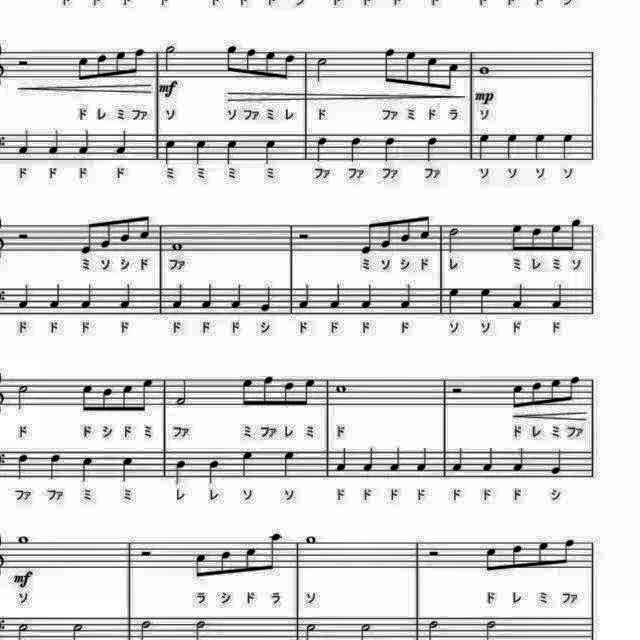Eighth-note: (266, 528, 286, 574), (377, 46, 395, 90), (356, 218, 376, 256), (404, 46, 421, 90), (423, 52, 441, 92), (566, 217, 584, 255), (77, 218, 95, 255), (79, 380, 97, 416), (235, 372, 253, 408), (192, 550, 212, 582), (138, 375, 154, 415), (533, 538, 551, 572), (241, 543, 259, 577), (559, 534, 577, 568), (509, 540, 527, 574), (444, 59, 462, 93), (214, 546, 233, 578), (261, 372, 277, 410), (263, 48, 279, 84), (483, 544, 501, 576), (280, 52, 298, 84), (118, 381, 134, 415), (379, 217, 395, 251), (99, 217, 115, 251), (222, 43, 238, 77), (116, 212, 132, 245), (95, 50, 111, 82), (242, 46, 258, 78), (566, 372, 582, 404), (396, 214, 412, 246), (548, 222, 564, 254), (302, 376, 318, 408), (418, 212, 434, 244), (136, 212, 152, 244), (548, 374, 564, 406), (506, 220, 522, 252), (74, 53, 90, 85), (132, 46, 148, 78), (99, 382, 115, 413), (112, 49, 128, 80), (508, 378, 524, 409), (528, 378, 544, 408), (528, 224, 544, 254), (280, 379, 296, 409)
Full-note: (15, 532, 33, 546), (170, 240, 187, 254), (478, 64, 494, 78), (334, 381, 350, 395), (304, 532, 320, 546)
Half-note: (173, 374, 191, 406), (313, 54, 331, 86), (13, 384, 31, 416), (161, 44, 177, 76), (446, 226, 462, 256)
Half-rest: (449, 382, 466, 398), (137, 545, 155, 559), (424, 545, 442, 559), (14, 229, 31, 243), (14, 58, 31, 70), (296, 231, 312, 243)
Quarter-note: (238, 448, 258, 478), (559, 130, 577, 162), (476, 130, 494, 162), (530, 130, 548, 162), (502, 130, 520, 162), (279, 447, 297, 479), (549, 282, 567, 314), (45, 450, 63, 482), (549, 444, 567, 476), (14, 450, 31, 482), (314, 132, 331, 164), (224, 138, 242, 168), (262, 138, 280, 168), (423, 133, 441, 163), (78, 454, 96, 484), (117, 454, 135, 484), (16, 127, 34, 157), (328, 281, 346, 311), (116, 283, 134, 313), (478, 284, 494, 316), (446, 286, 462, 318), (260, 282, 276, 314), (200, 281, 217, 311), (205, 458, 222, 487), (170, 283, 186, 313), (512, 283, 528, 313), (172, 456, 188, 486), (192, 137, 208, 167), (80, 281, 96, 311), (398, 283, 414, 313), (382, 134, 398, 164), (358, 281, 374, 311), (348, 134, 364, 164), (48, 128, 64, 158), (17, 281, 33, 311), (116, 128, 132, 158), (335, 444, 351, 474), (386, 443, 402, 473), (482, 443, 498, 473), (48, 281, 64, 311), (228, 281, 244, 311), (360, 444, 376, 474), (414, 443, 430, 472), (298, 282, 314, 310), (512, 446, 528, 474), (448, 444, 464, 472), (76, 130, 92, 158), (163, 136, 179, 164)
